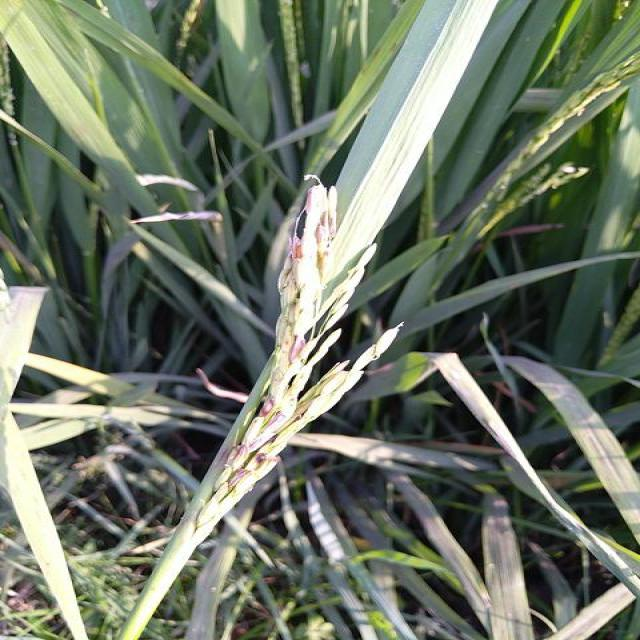Panicle Blight: (277, 185, 339, 308), (260, 336, 307, 430), (217, 438, 280, 504)
